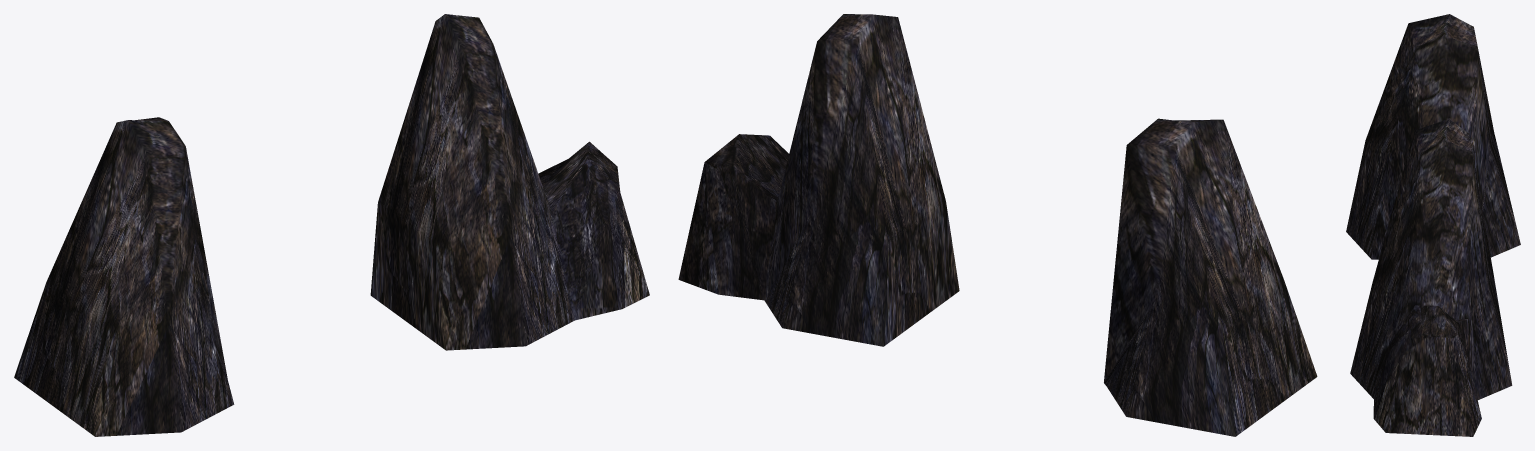
Rendered from shitou.FBX.
The picture shows the model from 3 angles, left to right: view 1: azimuth 30°, elevation 25°; view 2: azimuth 150°, elevation 25°; view 3: azimuth 270°, elevation 25°; orthographic projection. The views are drawn at different scales.
Parts seen in each view (by area): view 1: s-d-m-chengxia-spring-a-am-06-g, Object01; view 2: s-d-m-chengxia-spring-a-am-06-g, Object01; view 3: s-d-m-chengxia-spring-a-am-06-g, Object01.
Part boxes in pixels (x1=…): s-d-m-chengxia-spring-a-am-06-g: x1=370, y1=14, x2=649, y2=350; Object01: x1=14, y1=117, x2=234, y2=436; s-d-m-chengxia-spring-a-am-06-g: x1=678, y1=14, x2=959, y2=346; Object01: x1=1104, y1=118, x2=1317, y2=436; s-d-m-chengxia-spring-a-am-06-g: x1=1350, y1=119, x2=1512, y2=436; Object01: x1=1346, y1=14, x2=1520, y2=259.
Bounding box in the file's own units: 31.35 × 15.48 × 9.94.
